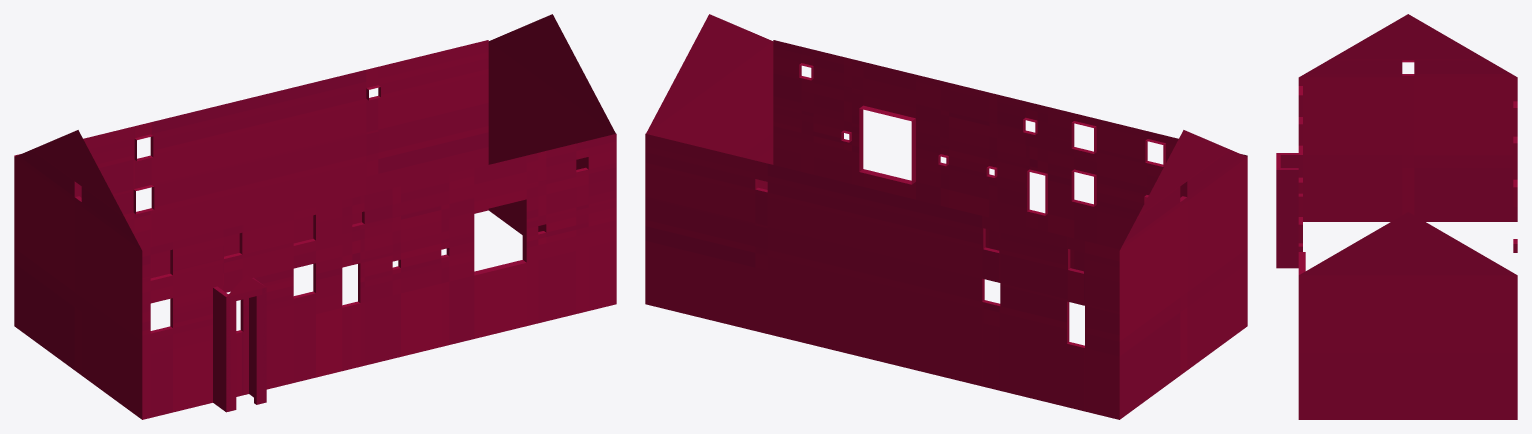
The model's file is SM_Bld_221_Masonry.glb.
3 views of the same model, side by side, from view 1: azimuth 30°, elevation 25°; view 2: azimuth 150°, elevation 25°; view 3: azimuth 270°, elevation 25° (orthographic). The views are drawn at different scales.
Parts seen in each view (by area): view 1: SM_Bld_221_Masonry; view 2: SM_Bld_221_Masonry; view 3: SM_Bld_221_Masonry.
Boxes of the visible parts, <box> form: SM_Bld_221_Masonry: <box>14,14,616,419</box>; SM_Bld_221_Masonry: <box>645,14,1247,419</box>; SM_Bld_221_Masonry: <box>1276,14,1517,419</box>.
Size of the model in its own units: 23.49 by 11.51 by 12.12.
